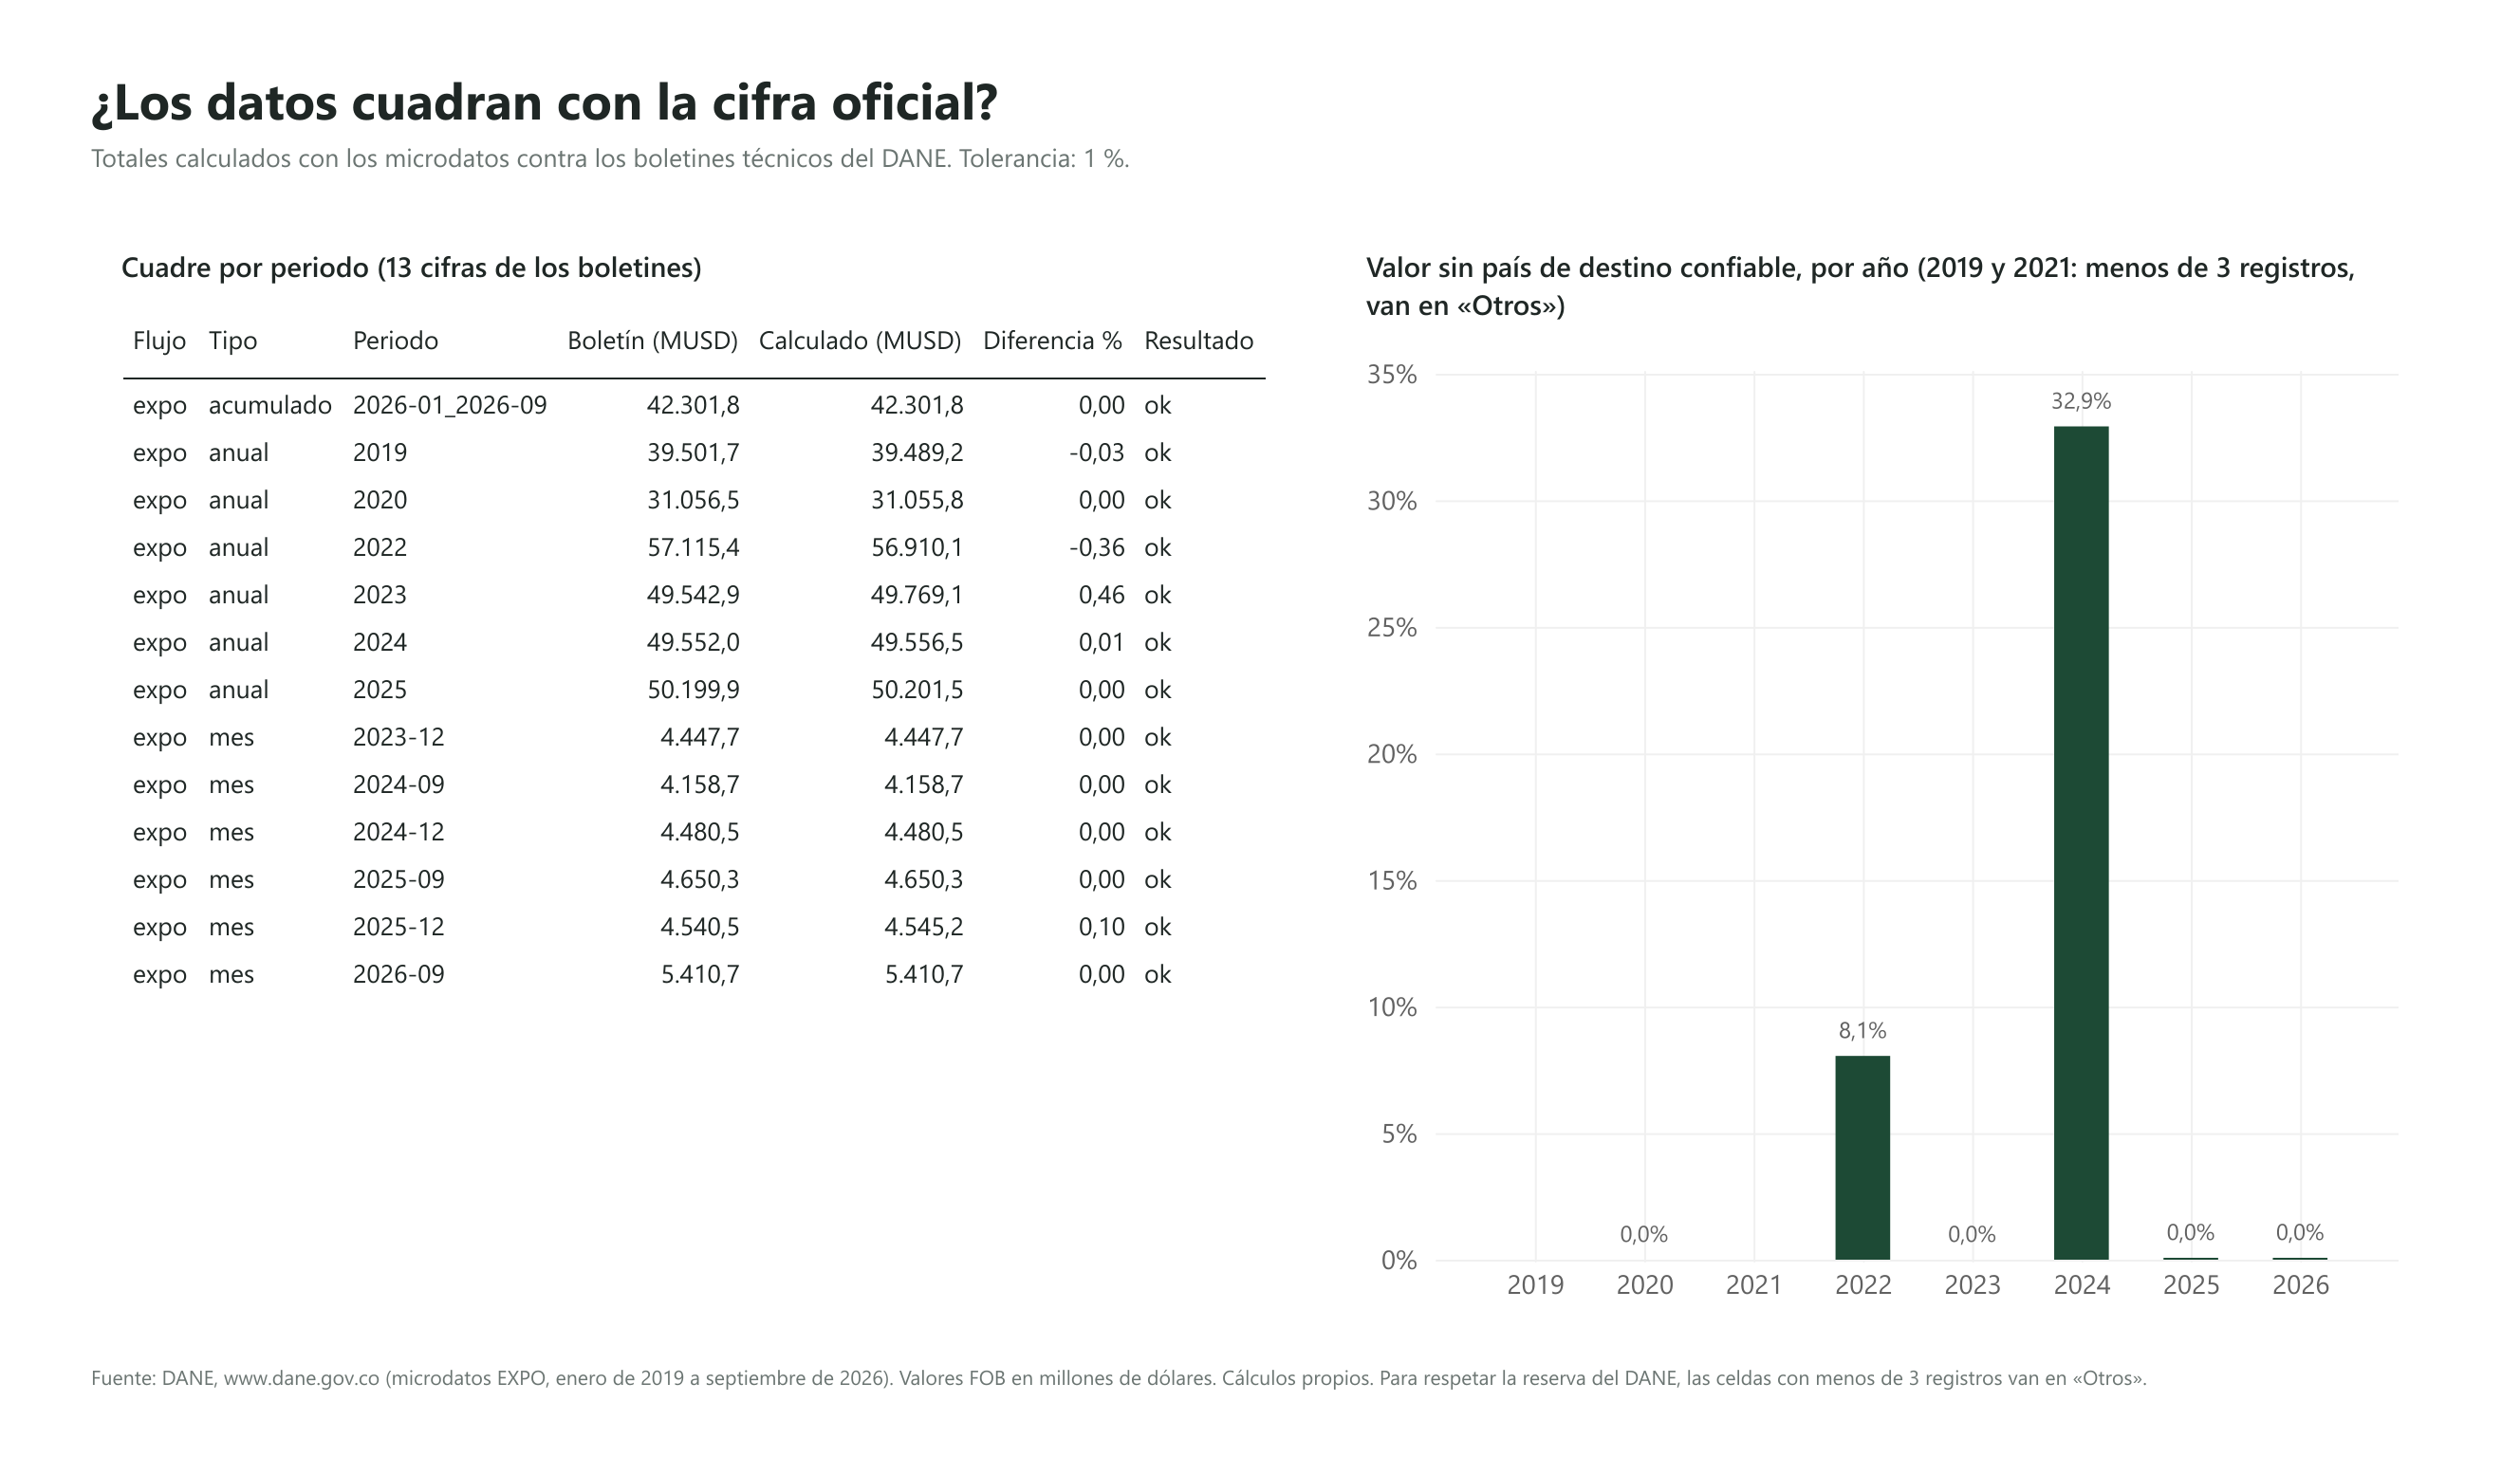

The dashboard page shown, as its layout file describes it:
{"tool":"powerbi","page":{"name":"Cuadre con el DANE","canvas":[1280,720],"ordinal":5},"visuals":[{"type":"textbox","box":[24,10,800,44],"z":0},{"type":"textbox","box":[24,50,800,30],"z":1},{"type":"tableEx","title":"Cuadre por periodo (13 cifras de los boletines)","fields":{"Values":["cuadre_boletin.Flujo","cuadre_boletin.Tipo","cuadre_boletin.Periodo","cuadre_boletin.Boletín (MUSD)","cuadre_boletin.Calculado (MUSD)","cuadre_boletin.Diferencia %","cuadre_boletin.Resultado"]},"box":[24,92,640,592],"z":2},{"type":"clusteredColumnChart","title":"Valor sin país de destino confiable, por año (2019 y 2021: menos de 3 registros, van en «Otros»)","fields":{"Category":["pais_dudoso_anual.Año del control"],"Y":["Medidas.Sin país confiable % (control anual)"]},"box":[680,92,576,592],"z":3},{"type":"textbox","box":[24,692,1232,24],"z":90}]}

Visuals, with their boxes in screenshot pixels (x1, y1, x2, y2), scaled from the page's 1280x720 canvas onto the 2520x1457 screenshot:
textbox: 47:20:1622:109
textbox: 47:101:1622:162
"Cuadre por periodo (13 cifras de los boletines)" tableEx: 47:186:1307:1384
"Valor sin país de destino confiable, por año (2019 y 2021: menos de 3 registros, van en «Otros»)" clusteredColumnChart: 1339:186:2473:1384
textbox: 47:1400:2473:1448
